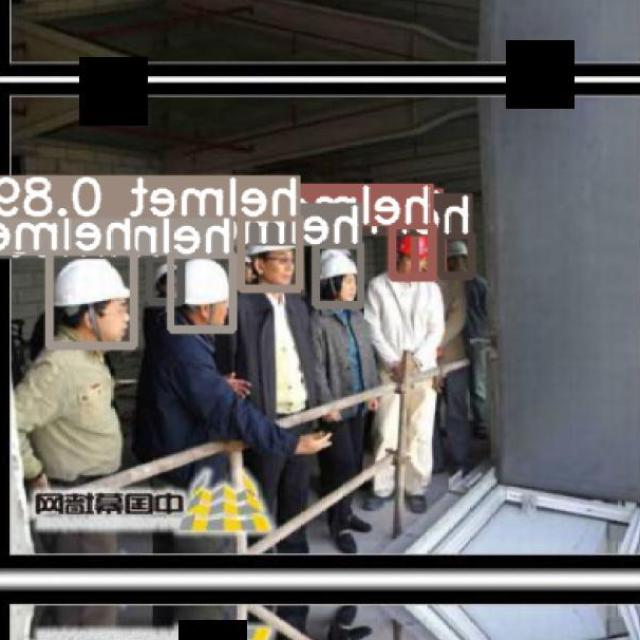helmet: (53, 258, 131, 307), (320, 248, 359, 279), (447, 240, 469, 256)
